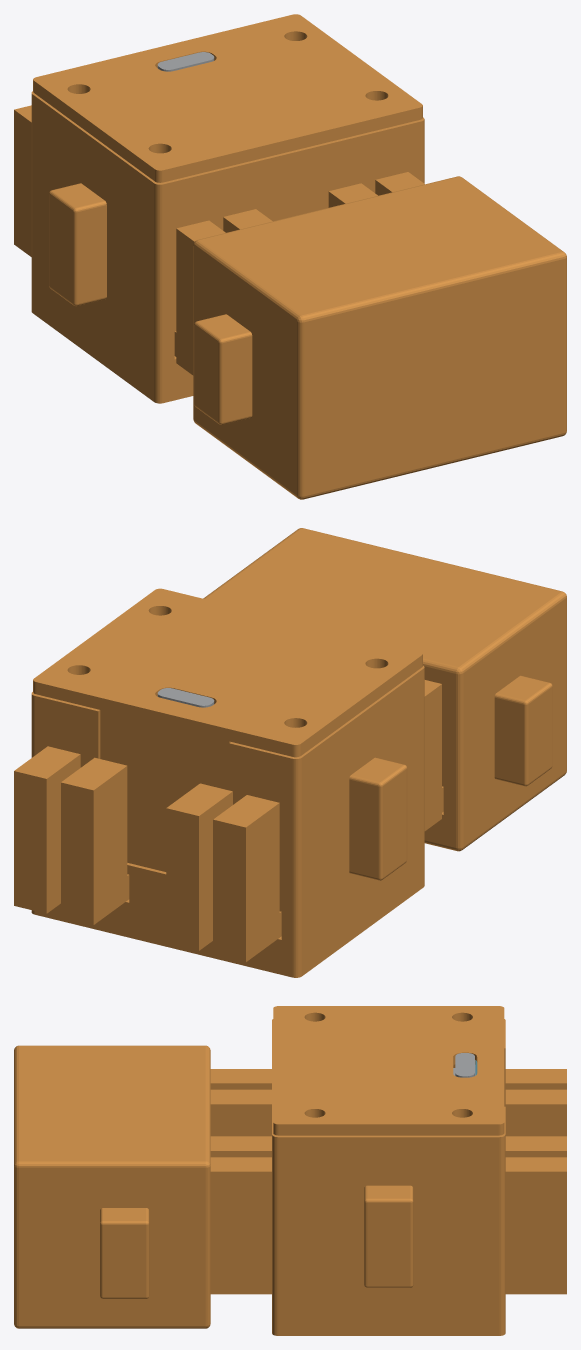
The model's file is claw-bot.glb.
The picture shows the model from 3 angles, top to bottom: view 1: azimuth 30°, elevation 25°; view 2: azimuth 150°, elevation 25°; view 3: azimuth 270°, elevation 25°; orthographic projection. The views are drawn at different scales.
Parts seen in each view (by area): view 1: head, chest_shell, rear_cover_controller_tray, neck_outer_left, foot_outer_left, neck_inner_right, neck_outer_right, neck_inner_left, elec_usb_connector; view 2: head, rear_cover_controller_tray, chest_shell, foot_outer_left, foot_inner_right, foot_outer_right, foot_inner_left, neck_outer_left, elec_usb_connector; view 3: head, chest_shell, rear_cover_controller_tray, neck_outer_right, foot_outer_right, neck_inner_left, foot_inner_left, neck_inner_right, foot_inner_right, neck_outer_left, foot_outer_left, elec_usb_connector.
Boxes of the visible parts, bbox=[...] form: head: bbox=[193, 176, 566, 499]; chest_shell: bbox=[31, 91, 424, 403]; rear_cover_controller_tray: bbox=[33, 14, 422, 182]; neck_outer_left: bbox=[174, 220, 225, 375]; foot_outer_left: bbox=[14, 105, 31, 256]; neck_inner_right: bbox=[328, 183, 377, 207]; neck_outer_right: bbox=[375, 172, 424, 195]; neck_inner_left: bbox=[223, 209, 272, 232]; elec_usb_connector: bbox=[157, 52, 214, 71]; head: bbox=[203, 528, 566, 851]; rear_cover_controller_tray: bbox=[33, 588, 422, 871]; chest_shell: bbox=[31, 665, 424, 977]; foot_outer_left: bbox=[213, 795, 281, 962]; foot_inner_right: bbox=[61, 757, 129, 925]; foot_outer_right: bbox=[14, 746, 80, 913]; foot_inner_left: bbox=[166, 783, 232, 950]; neck_outer_left: bbox=[424, 680, 443, 830]; elec_usb_connector: bbox=[157, 688, 214, 707]; head: bbox=[14, 1045, 210, 1328]; chest_shell: bbox=[272, 1019, 505, 1335]; rear_cover_controller_tray: bbox=[273, 1006, 504, 1135]; neck_outer_right: bbox=[210, 1157, 271, 1294]; foot_outer_right: bbox=[505, 1157, 566, 1294]; neck_inner_left: bbox=[210, 1089, 271, 1136]; foot_inner_left: bbox=[505, 1089, 566, 1136]; neck_inner_right: bbox=[210, 1136, 271, 1157]; foot_inner_right: bbox=[505, 1136, 566, 1157]; neck_outer_left: bbox=[210, 1069, 271, 1089]; foot_outer_left: bbox=[505, 1069, 566, 1089]; elec_usb_connector: bbox=[455, 1053, 475, 1077].
Size of the model in its own units: 57 by 38.31 by 90.
